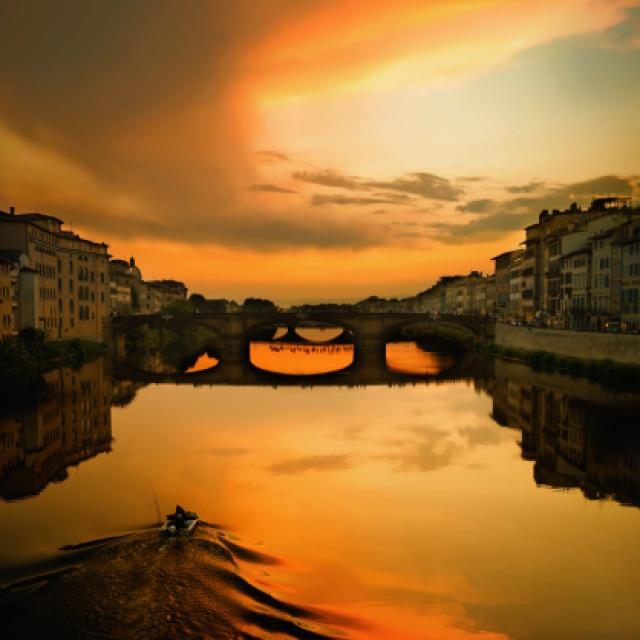Boat: (145, 496, 247, 573)
